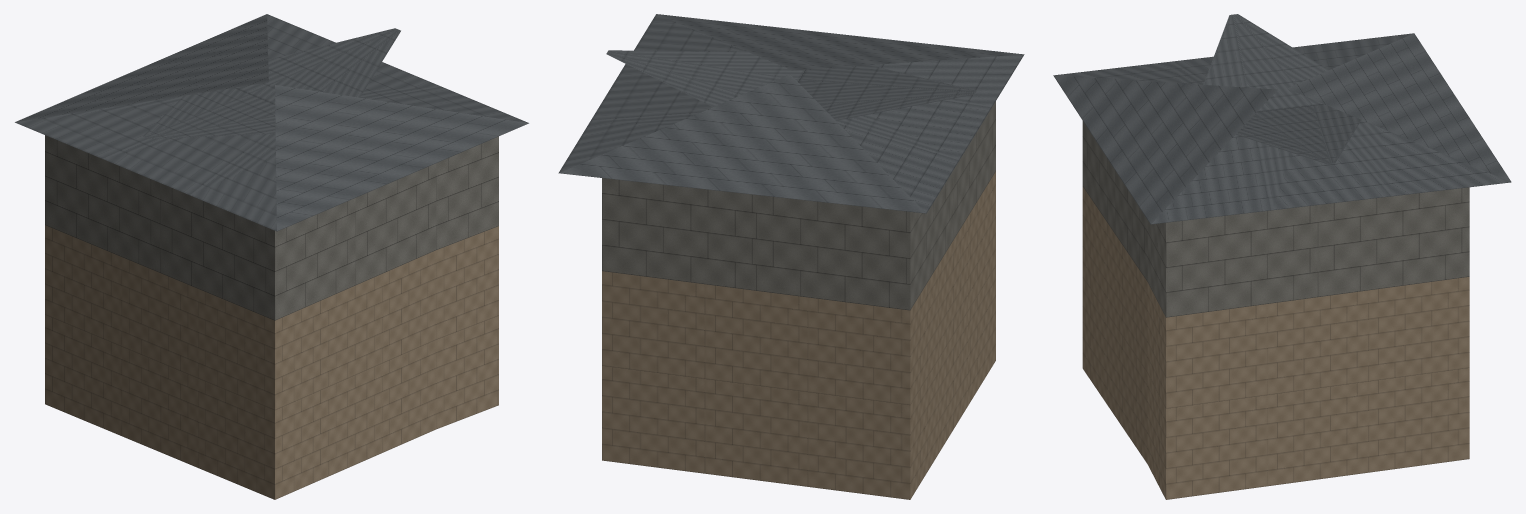
Rendered from bld_c-22_-22_808.gltf.
The picture shows the model from 3 angles, left to right: view 1: azimuth 30°, elevation 25°; view 2: azimuth 150°, elevation 25°; view 3: azimuth 270°, elevation 25°; orthographic projection. The views are drawn at different scales.
Visible parts, largest first — view 1: bld_c-22_-22_808; view 2: bld_c-22_-22_808; view 3: bld_c-22_-22_808.
Part boxes in pixels (x1,y1,x2,y2): bld_c-22_-22_808: [15, 14, 528, 499]; bld_c-22_-22_808: [558, 14, 1024, 499]; bld_c-22_-22_808: [1053, 14, 1511, 499].
Bounding box in the file's own units: 10.3 × 8.2 × 10.43.
Materials: 3 (3 with a texture image).
